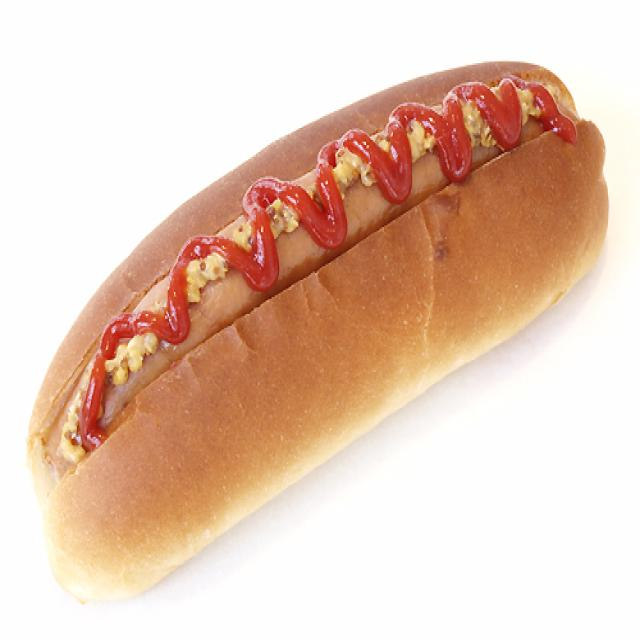三明治: (23, 39, 591, 608)
